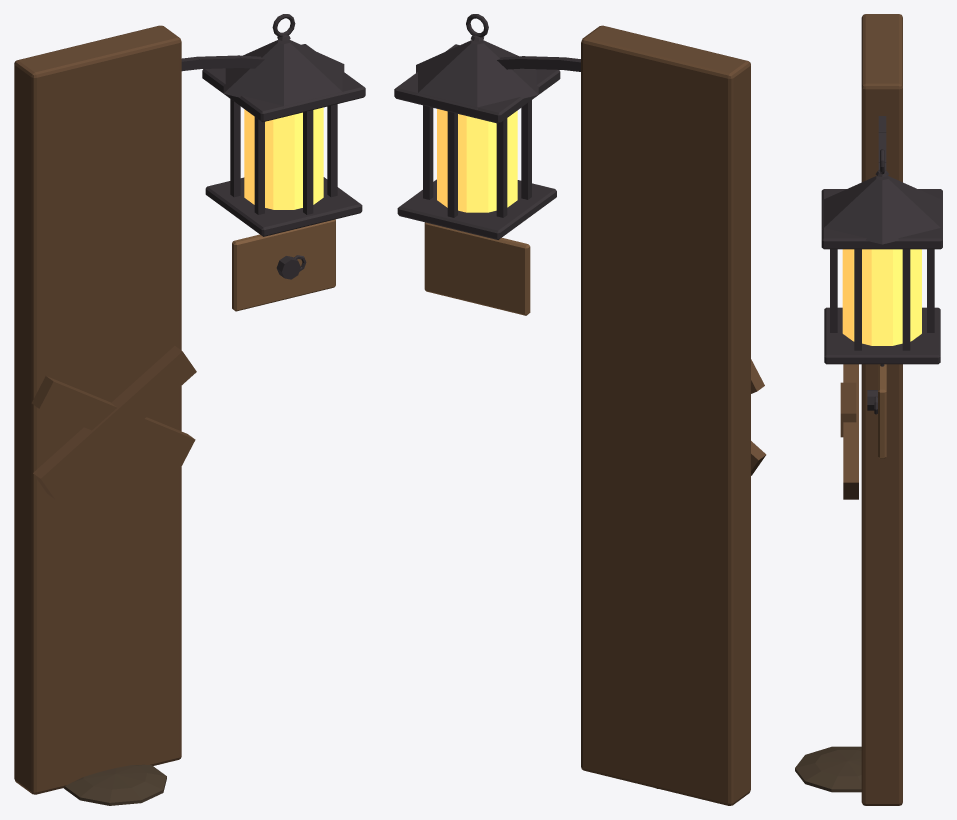
File: SM_Lamp_TavernBracket_02.fbx
3 views of the same model, side by side, from view 1: azimuth 30°, elevation 25°; view 2: azimuth 150°, elevation 25°; view 3: azimuth 270°, elevation 25° (orthographic).
Parts seen in each view (by area): view 1: SM_Lamp_TavernBracket_02_WallStub, SM_Lamp_TavernBracket_02_Sign, SM_Lamp_TavernBracket_02_Timber1, SM_Lamp_TavernBracket_02_HeadRoof, SM_Lamp_TavernBracket_02_HeadGlass, SM_Lamp_TavernBracket_02_Timber0, SM_Lamp_TavernBracket_02_HeadBase, SM_Lamp_TavernBracket_02_Mound, SM_Lamp_TavernBracket_02_HeadCap, SM_Lamp_TavernBracket_02_HeadPost4, SM_Lamp_TavernBracket_02_HeadPost3, SM_Lamp_TavernBracket_02_HeadPost2 (+1 smaller); view 2: SM_Lamp_TavernBracket_02_WallStub, SM_Lamp_TavernBracket_02_Sign, SM_Lamp_TavernBracket_02_HeadRoof, SM_Lamp_TavernBracket_02_HeadGlass, SM_Lamp_TavernBracket_02_HeadBase, SM_Lamp_TavernBracket_02_HeadCap, SM_Lamp_TavernBracket_02_HeadPost1, SM_Lamp_TavernBracket_02_HeadPost2, SM_Lamp_TavernBracket_02_HeadPost3, SM_Lamp_TavernBracket_02_HeadPost0; view 3: SM_Lamp_TavernBracket_02_WallStub, SM_Lamp_TavernBracket_02_HeadGlass, SM_Lamp_TavernBracket_02_HeadRoof, SM_Lamp_TavernBracket_02_HeadBase, SM_Lamp_TavernBracket_02_Mound, SM_Lamp_TavernBracket_02_HeadCap, SM_Lamp_TavernBracket_02_Timber0, SM_Lamp_TavernBracket_02_HeadPost0, SM_Lamp_TavernBracket_02_Sign, SM_Lamp_TavernBracket_02_HeadPost5, SM_Lamp_TavernBracket_02_Timber1, SM_Lamp_TavernBracket_02_HeadPost1 (+1 smaller).
Part boxes in pixels (x1,y1,x2,y2): SM_Lamp_TavernBracket_02_WallStub: [14, 25, 181, 794]; SM_Lamp_TavernBracket_02_Sign: [232, 219, 335, 311]; SM_Lamp_TavernBracket_02_Timber1: [33, 346, 196, 498]; SM_Lamp_TavernBracket_02_HeadRoof: [223, 39, 344, 108]; SM_Lamp_TavernBracket_02_HeadGlass: [244, 107, 323, 209]; SM_Lamp_TavernBracket_02_Timber0: [31, 376, 195, 466]; SM_Lamp_TavernBracket_02_HeadBase: [205, 177, 362, 236]; SM_Lamp_TavernBracket_02_Mound: [63, 764, 166, 805]; SM_Lamp_TavernBracket_02_HeadCap: [202, 44, 365, 122]; SM_Lamp_TavernBracket_02_HeadPost4: [303, 110, 313, 214]; SM_Lamp_TavernBracket_02_HeadPost3: [254, 117, 264, 214]; SM_Lamp_TavernBracket_02_HeadPost2: [230, 99, 240, 197]; SM_Lamp_TavernBracket_02_WallStub: [581, 25, 750, 805]; SM_Lamp_TavernBracket_02_Sign: [424, 222, 530, 315]; SM_Lamp_TavernBracket_02_HeadRoof: [416, 40, 538, 109]; SM_Lamp_TavernBracket_02_HeadGlass: [437, 109, 517, 212]; SM_Lamp_TavernBracket_02_HeadBase: [397, 179, 556, 239]; SM_Lamp_TavernBracket_02_HeadCap: [394, 44, 560, 123]; SM_Lamp_TavernBracket_02_HeadPost1: [447, 111, 457, 217]; SM_Lamp_TavernBracket_02_HeadPost2: [496, 118, 507, 217]; SM_Lamp_TavernBracket_02_HeadPost3: [521, 100, 531, 199]; SM_Lamp_TavernBracket_02_HeadPost0: [423, 105, 433, 199]; SM_Lamp_TavernBracket_02_WallStub: [861, 14, 902, 805]; SM_Lamp_TavernBracket_02_HeadGlass: [842, 249, 921, 345]; SM_Lamp_TavernBracket_02_HeadRoof: [822, 176, 942, 244]; SM_Lamp_TavernBracket_02_HeadBase: [824, 307, 940, 364]; SM_Lamp_TavernBracket_02_Mound: [795, 746, 861, 792]; SM_Lamp_TavernBracket_02_HeadCap: [821, 189, 942, 249]; SM_Lamp_TavernBracket_02_Timber0: [843, 364, 858, 499]; SM_Lamp_TavernBracket_02_HeadPost0: [902, 249, 910, 350]; SM_Lamp_TavernBracket_02_Sign: [878, 364, 886, 458]; SM_Lamp_TavernBracket_02_HeadPost5: [854, 249, 861, 350]; SM_Lamp_TavernBracket_02_Timber1: [840, 382, 856, 437]; SM_Lamp_TavernBracket_02_HeadPost1: [927, 249, 934, 332].
Bounding box in the file's own units: 1.08 × 2.3 × 0.4272.
